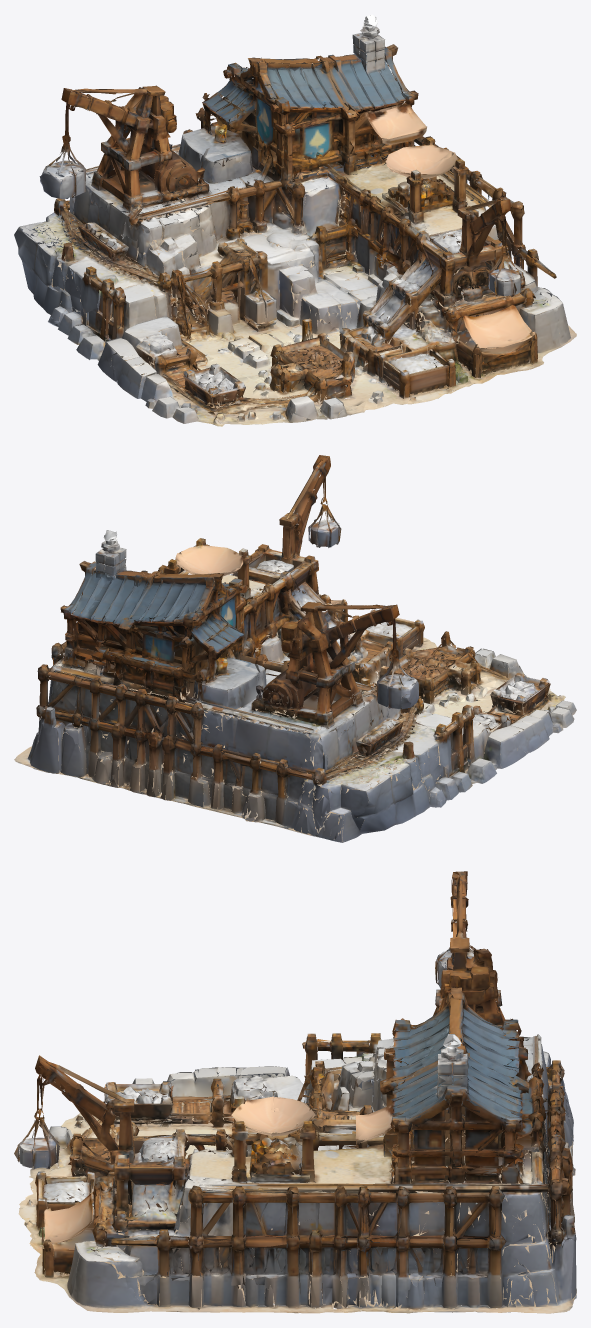
Rendered from Quarry.fbx.
The picture shows the model from 3 angles, top to bottom: view 1: azimuth 30°, elevation 25°; view 2: azimuth 150°, elevation 25°; view 3: azimuth 270°, elevation 25°; orthographic projection. The views are drawn at different scales.
Parts seen in each view (by area): view 1: node_0; view 2: node_0; view 3: node_0.
Part boxes in pixels (x1,y1,x2,y2): node_0: [14, 14, 576, 426]; node_0: [14, 455, 576, 842]; node_0: [14, 871, 576, 1313].
Bounding box in the file's own units: 192 × 100 × 203.
Materials: 1 (1 with a texture image).
